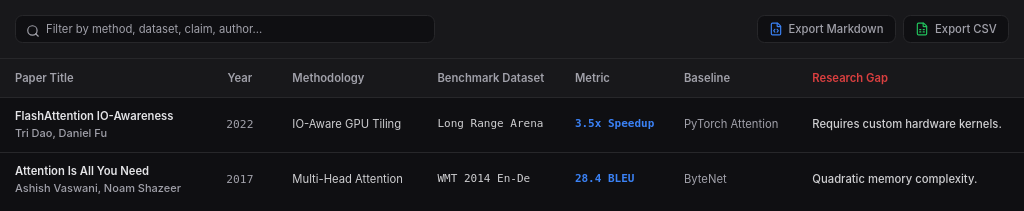
Scenario: LiteratureMatrix › filters rows based on search query
Type "FlashAttention" into the field with placeholder "Filter by method, dataset, claim, author..." at (225, 29), box [15,15,435,43]
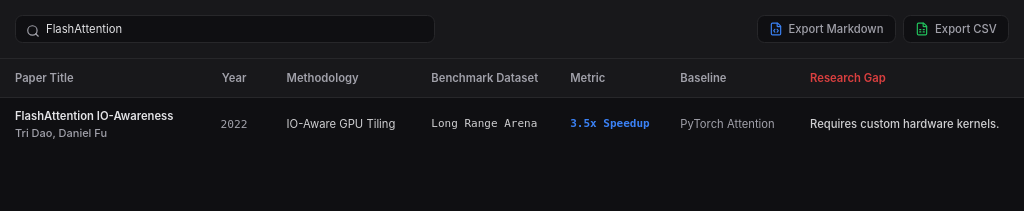
Expected: the text "FlashAttention IO-Awareness" is shown, [15,109,182,124]
Expected: the text "Attention Is All You Need" is gone
